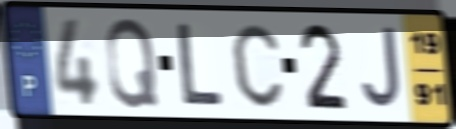2: (297, 21, 350, 113)
4: (52, 15, 103, 108)
C: (229, 21, 285, 110)
J: (359, 24, 403, 112)
L: (174, 20, 226, 109)
Q: (103, 15, 161, 111)
